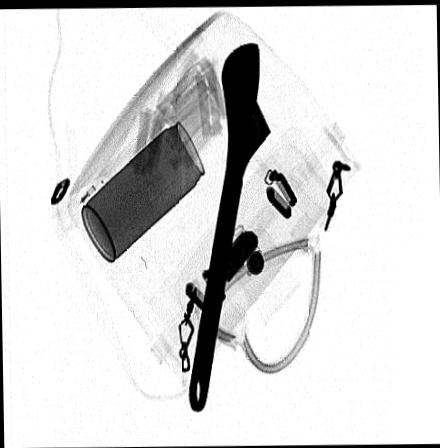Wrench: (186, 41, 274, 413)
